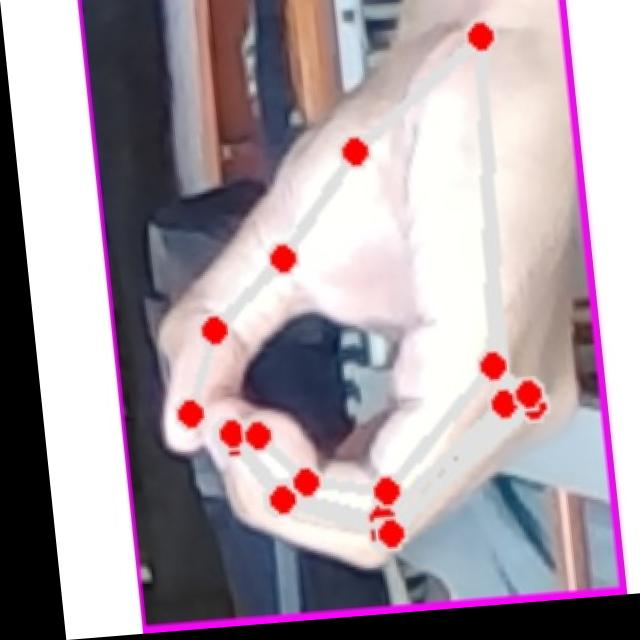O: (106, 0, 594, 593)
